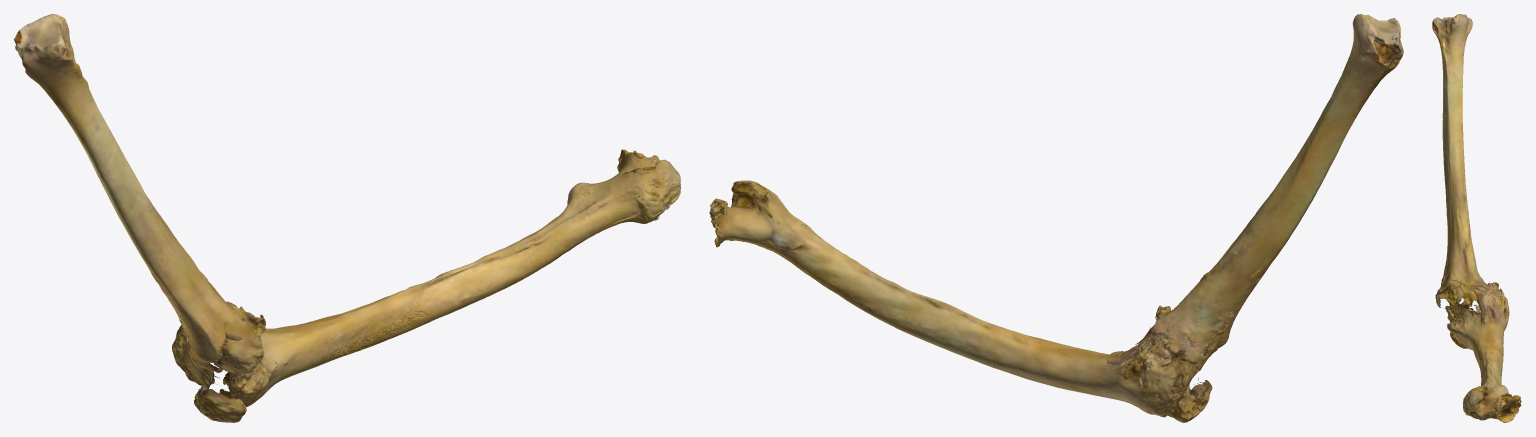
File: anquilosis-web.glb
The picture shows the model from 3 angles, left to right: view 1: azimuth 30°, elevation 25°; view 2: azimuth 150°, elevation 25°; view 3: azimuth 270°, elevation 25°; orthographic projection. The views are drawn at different scales.
Parts seen in each view (by area): view 1: defaultobject; view 2: defaultobject; view 3: defaultobject.
Part boxes in pixels (x1,y1,x2,y2): defaultobject: [14, 14, 680, 422]; defaultobject: [709, 14, 1403, 422]; defaultobject: [1432, 14, 1521, 422].
Bounding box in the file's own units: 592 × 379 × 111.
Materials: 1 (1 with a texture image).
